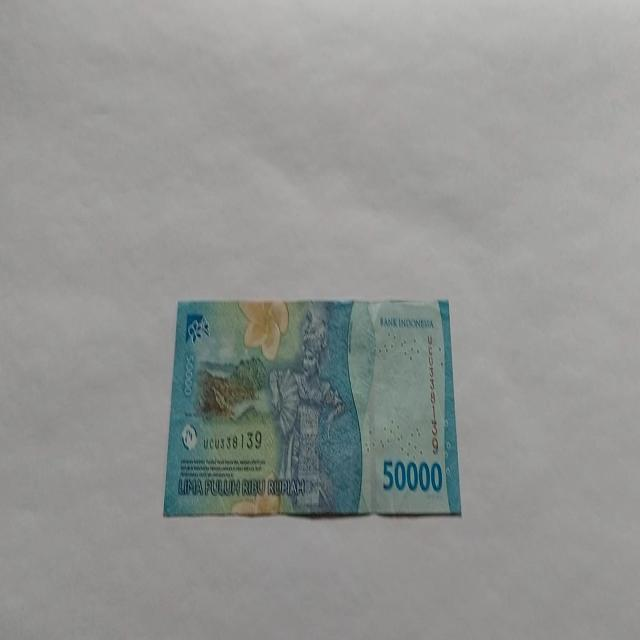lima puluh ribu rupiah: (162, 296, 462, 519)
